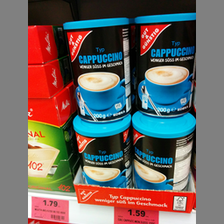coffee: (62, 17, 133, 121), (131, 13, 196, 118), (132, 110, 195, 192), (73, 113, 131, 187)
